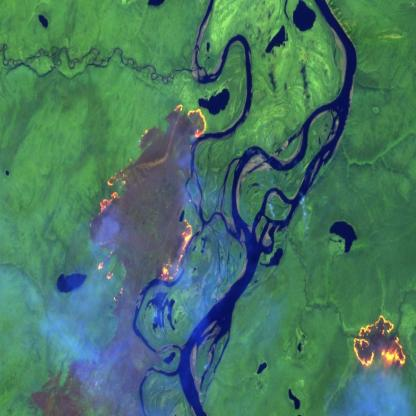fire: (96, 102, 209, 298), (351, 309, 411, 377)
